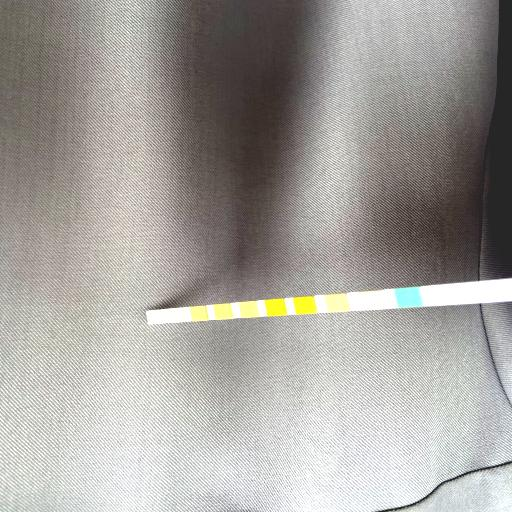Bilirubin: (359, 291, 381, 309)
Blood: (266, 299, 284, 315)
Glucose: (396, 289, 418, 307)
Ketone: (326, 294, 348, 310)
Leukocytes: (148, 311, 160, 324)
Nitrite: (169, 308, 184, 322)
Protein: (215, 304, 230, 320)
SpGravity: (295, 297, 315, 313)
Urobilinogen: (192, 306, 206, 320)
pH: (242, 302, 256, 318)
strip: (146, 278, 512, 324)
